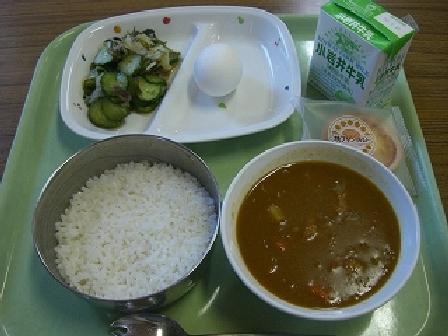Cup desserts: (295, 94, 425, 164)
Curry: (228, 144, 421, 305)
Milk: (300, 4, 414, 101)
Rice: (30, 133, 226, 303)
Salad: (72, 17, 176, 119)
boiled eggs: (188, 32, 253, 110)
